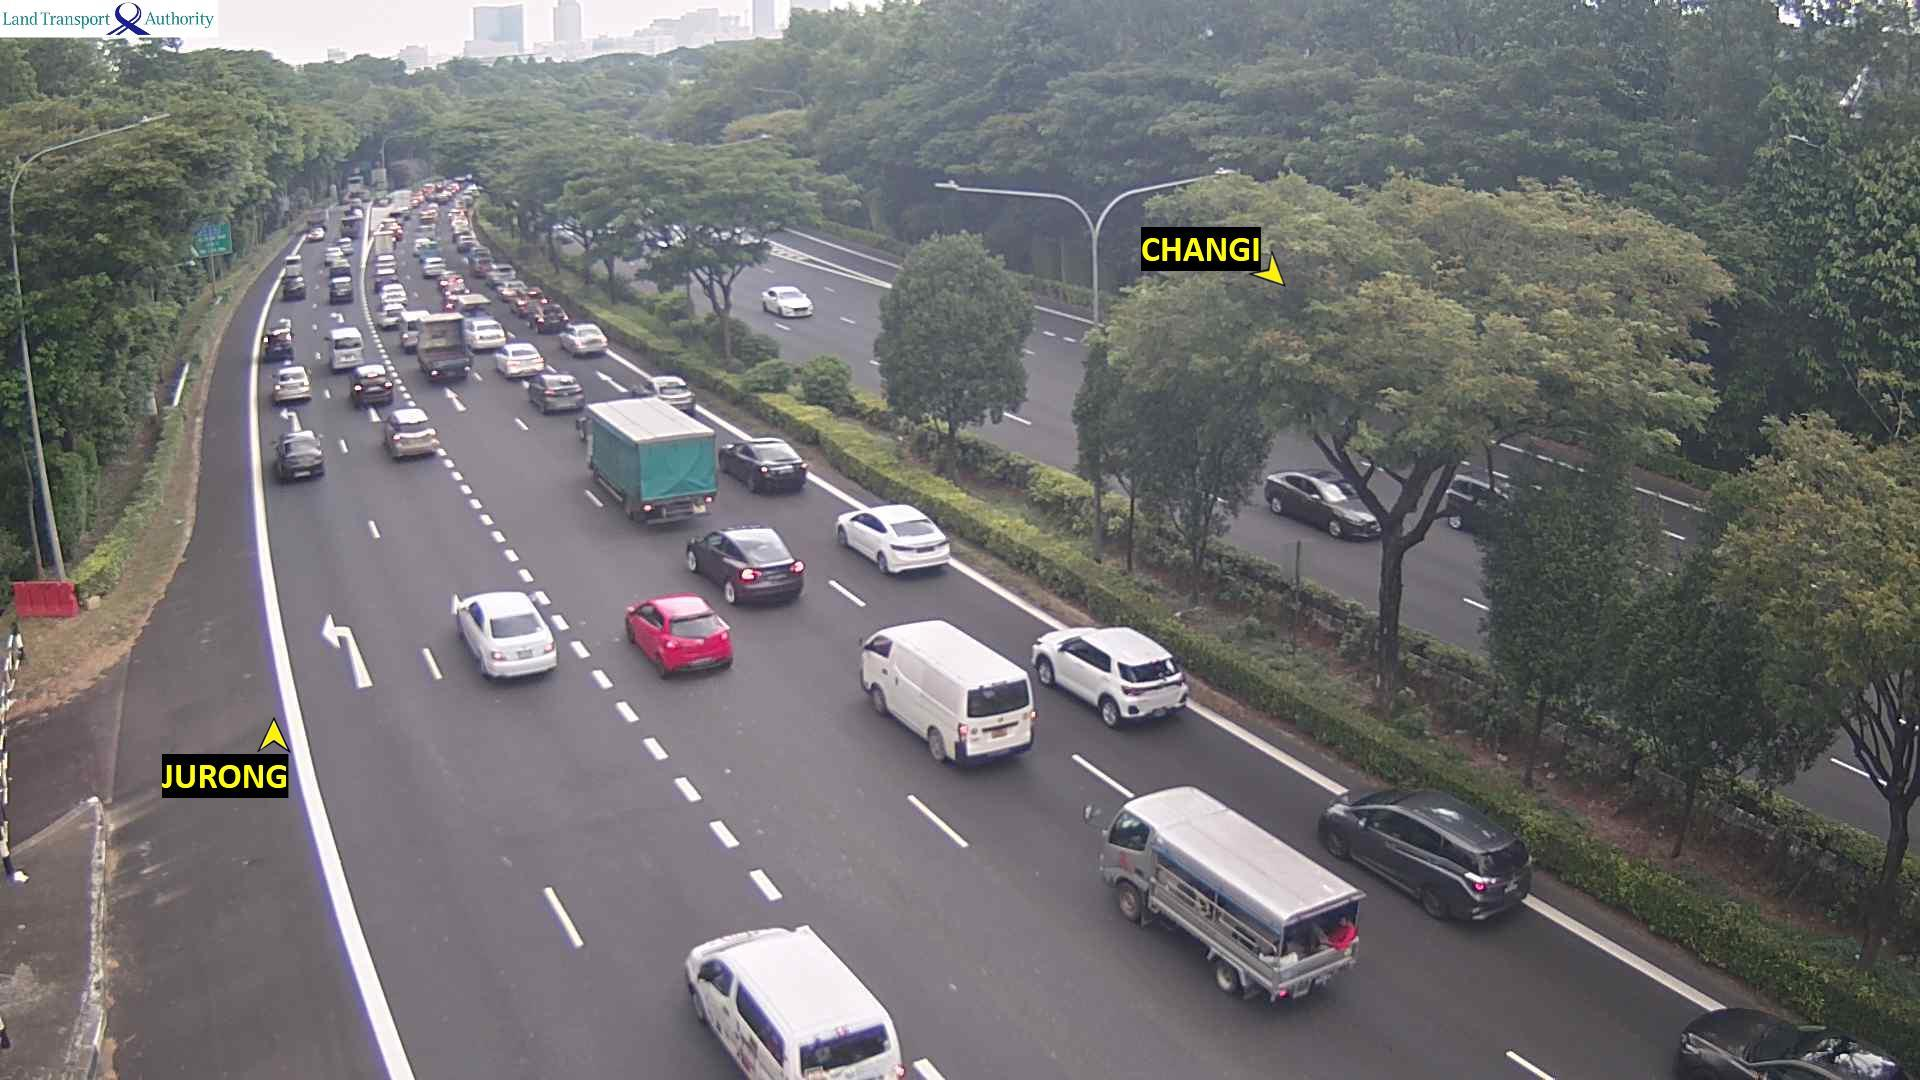cars: (683, 922, 905, 1078), (1317, 784, 1532, 923), (858, 617, 1036, 768), (1675, 1005, 1905, 1079), (1030, 624, 1189, 728), (450, 589, 557, 680), (685, 524, 805, 605), (624, 592, 732, 676), (834, 502, 950, 576), (1263, 469, 1381, 541), (718, 436, 808, 493), (1442, 474, 1514, 532), (382, 406, 438, 460), (272, 429, 324, 481), (524, 369, 584, 414), (630, 374, 696, 414), (492, 341, 544, 379), (350, 362, 393, 407), (759, 284, 813, 318), (558, 322, 608, 357), (526, 300, 572, 338), (328, 325, 364, 371), (463, 314, 507, 351), (271, 363, 311, 402), (261, 317, 294, 361), (398, 307, 430, 351), (509, 287, 546, 318), (372, 302, 409, 330), (497, 276, 531, 304), (466, 244, 495, 275), (484, 260, 517, 286), (327, 270, 352, 303), (371, 267, 404, 292), (280, 272, 306, 300), (379, 283, 409, 307), (442, 281, 475, 301), (265, 316, 292, 340), (419, 254, 446, 277), (413, 237, 444, 257), (436, 267, 467, 286), (368, 253, 402, 270), (456, 233, 482, 254), (281, 254, 304, 277), (376, 213, 403, 231), (323, 245, 344, 266), (335, 237, 356, 258), (415, 223, 440, 239), (453, 225, 473, 242), (330, 257, 351, 273), (306, 224, 325, 241)
trucks: (1089, 784, 1366, 1005), (576, 394, 718, 525), (416, 311, 477, 386), (445, 293, 493, 320), (373, 229, 402, 257), (391, 189, 415, 222), (339, 215, 364, 241)
